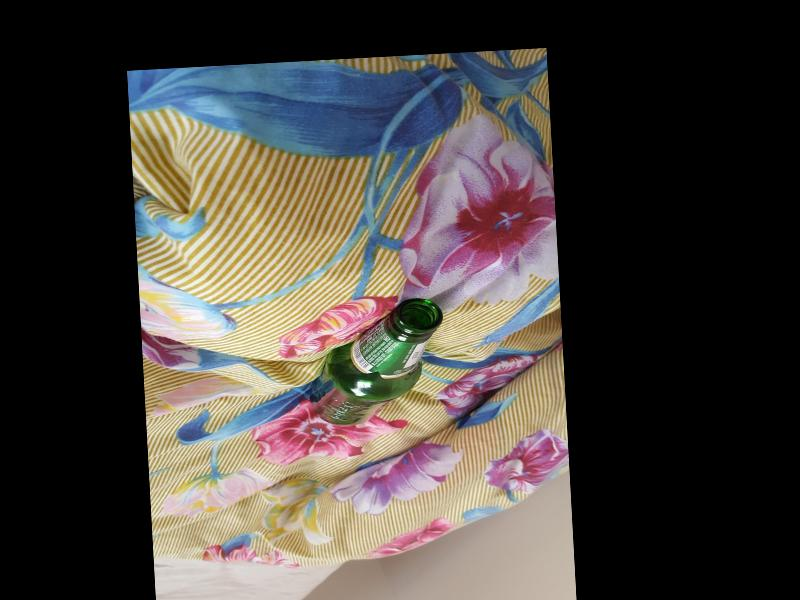Beer: (304, 295, 449, 427)
